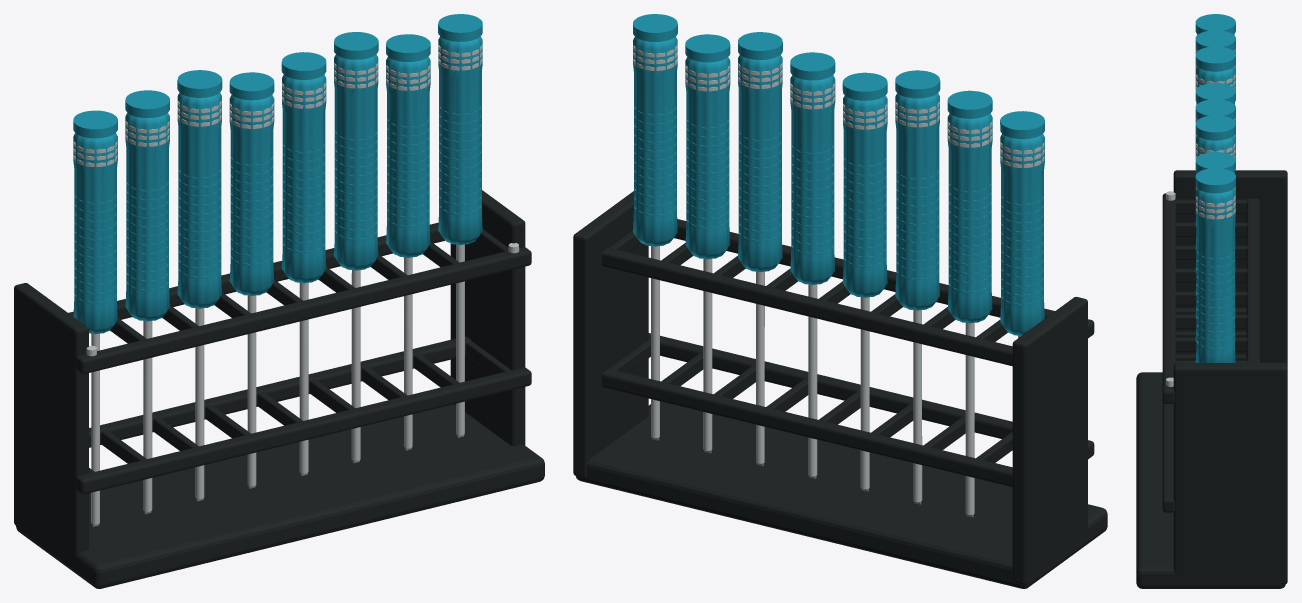
3 renders of one model, left to right at view 1: azimuth 30°, elevation 25°; view 2: azimuth 150°, elevation 25°; view 3: azimuth 270°, elevation 25°, orthographic. The views are drawn at different scales.
Parts seen in each view (by area): view 1: Black rack base, Blue anodised grip 00, Driver 00 polished shaft; view 2: Black rack base, Blue anodised grip 00, Driver 00 polished shaft; view 3: Black rack base, Blue anodised grip 00, Driver 00 polished shaft.
Part boxes in pixels (box(x1,y1,x2,y2)): Black rack base: box(14, 190, 544, 588); Blue anodised grip 00: box(73, 14, 482, 334); Driver 00 polished shaft: box(73, 45, 519, 524); Black rack base: box(573, 191, 1107, 588); Blue anodised grip 00: box(633, 14, 1044, 335); Driver 00 polished shaft: box(633, 45, 1044, 514); Black rack base: box(1136, 170, 1287, 588); Blue anodised grip 00: box(1195, 14, 1235, 362); Driver 00 polished shaft: box(1166, 49, 1235, 386).
Bounding box in the file's own units: 0.314 × 0.296 × 0.101.
